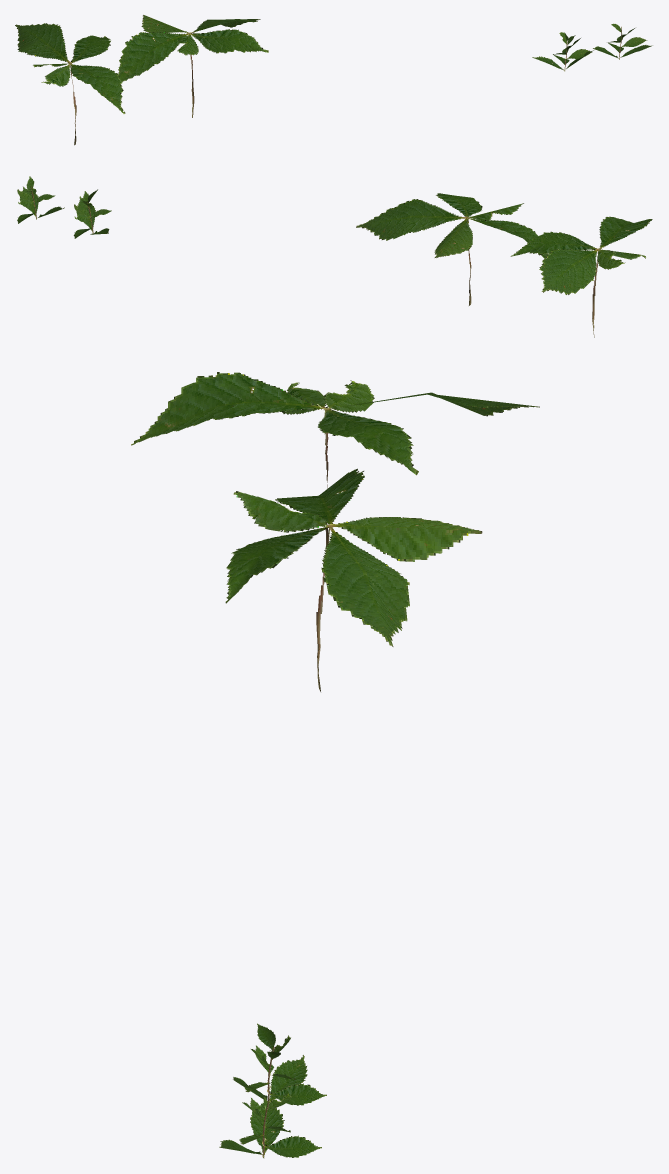
The model's file is planting.glb.
3 renders of one model, top to bottom at view 1: azimuth 30°, elevation 25°; view 2: azimuth 150°, elevation 25°; view 3: azimuth 270°, elevation 25°, orthographic. The views are drawn at different scales.
Parts seen in each view (by area): view 1: OfficePlant; view 2: OfficePlant; view 3: OfficePlant.
Boxes of the visible parts, left/top/right/bottom form: OfficePlant: left=15, top=15, right=652, bottom=145; OfficePlant: left=17, top=176, right=652, bottom=337; OfficePlant: left=131, top=372, right=539, bottom=1158.
Size of the model in its own units: 3.8 by 0.8006 by 1.17.
1 material, 1 textured.
